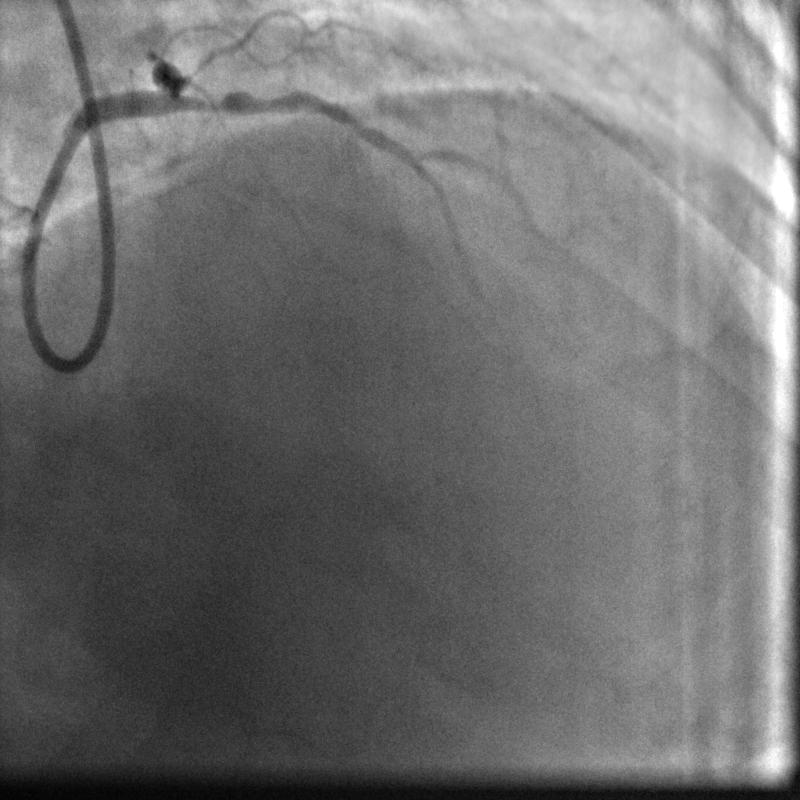Stenosis: (189, 87, 289, 115)
